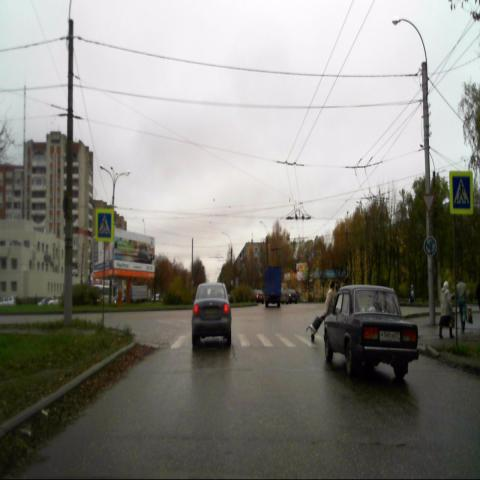4_3: (424, 235, 436, 257)
